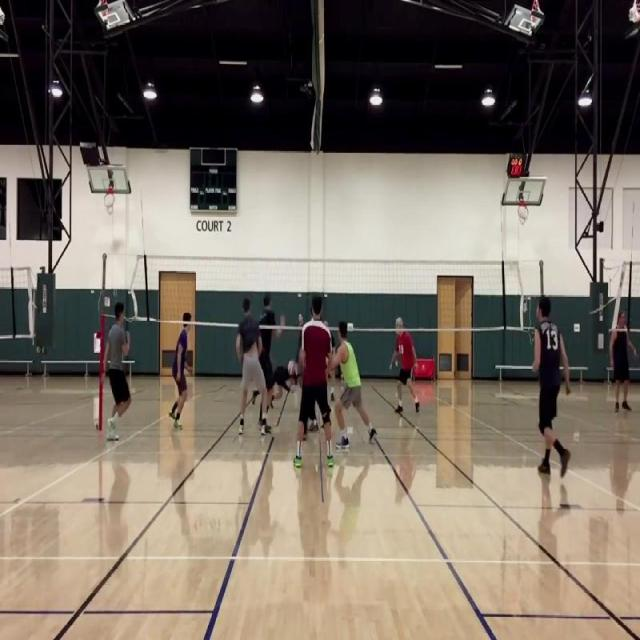volleyball: (288, 360, 294, 374)
